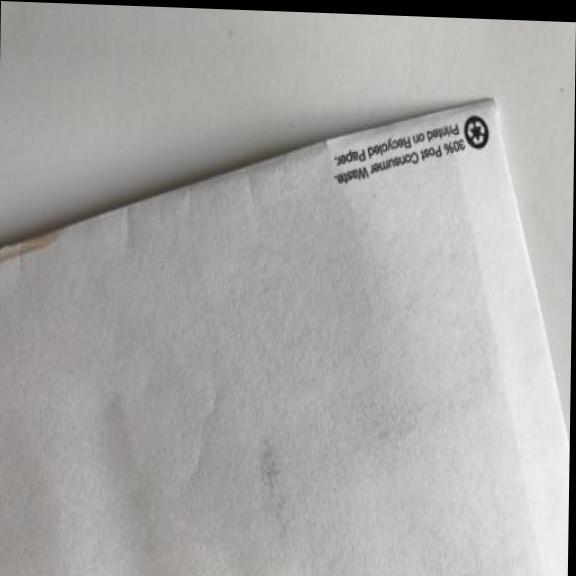Kertas: (0, 79, 573, 576)
